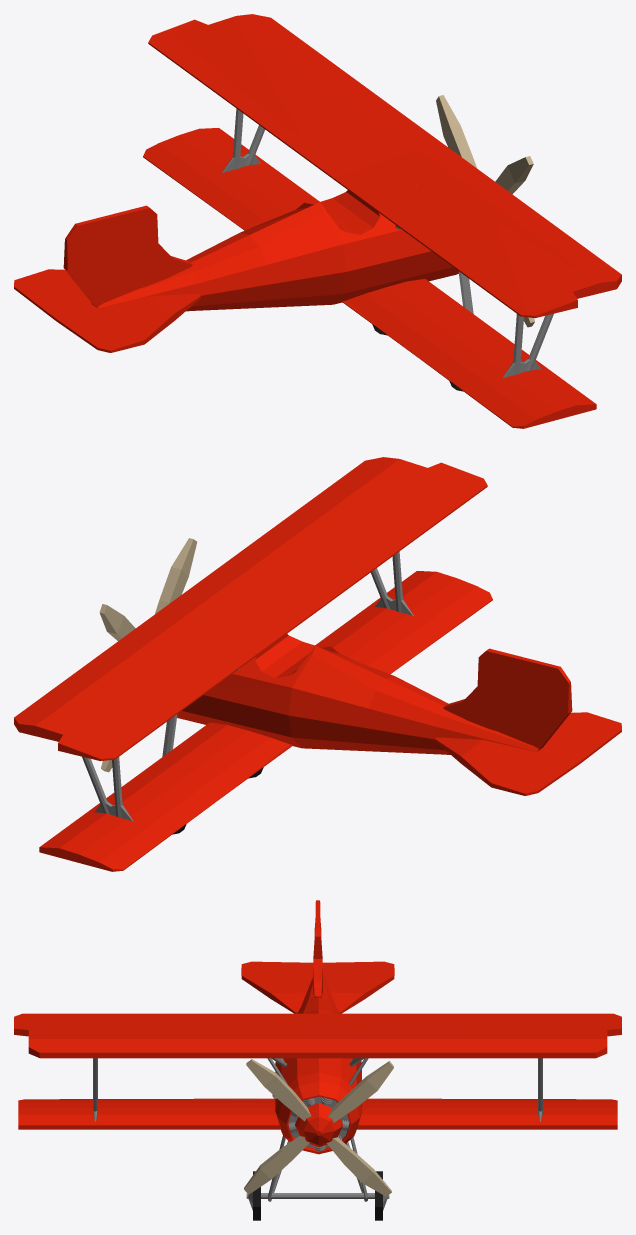
The picture shows the model from 3 angles, top to bottom: view 1: azimuth 30°, elevation 25°; view 2: azimuth 150°, elevation 25°; view 3: azimuth 270°, elevation 25°; orthographic projection. The views are drawn at different scales.
Parts seen in each view (by area): view 1: plane_2, fuselage_1, Cylinder_0; view 2: plane_2, fuselage_1, Cylinder_0; view 3: plane_2, Cylinder_0, fuselage_1.
Part boxes in pixels (box(x1,y1,x2,y2)): plane_2: box(14, 14, 621, 428); fuselage_1: box(91, 190, 458, 311); Cylinder_0: box(436, 95, 534, 327); plane_2: box(14, 457, 621, 871); fuselage_1: box(177, 634, 543, 754); Cylinder_0: box(99, 538, 197, 772); plane_2: box(14, 900, 621, 1220); Cylinder_0: box(244, 1059, 393, 1196); fuselage_1: box(275, 975, 362, 1154).
Size of the model in its own units: 5.66 by 2.77 by 8.44.
